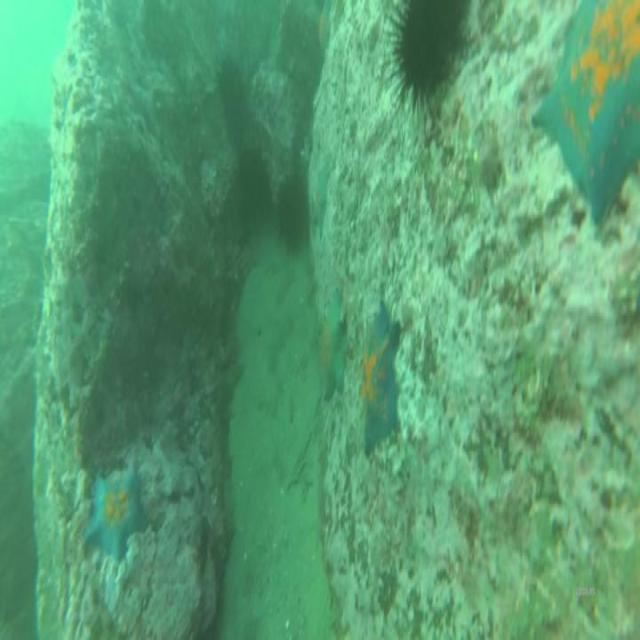echinus: (399, 3, 461, 95), (279, 178, 309, 246), (239, 155, 268, 218), (219, 65, 246, 122)
starfish: (532, 1, 640, 222), (361, 300, 400, 455), (84, 476, 148, 560), (319, 297, 348, 400), (318, 1, 332, 54)
